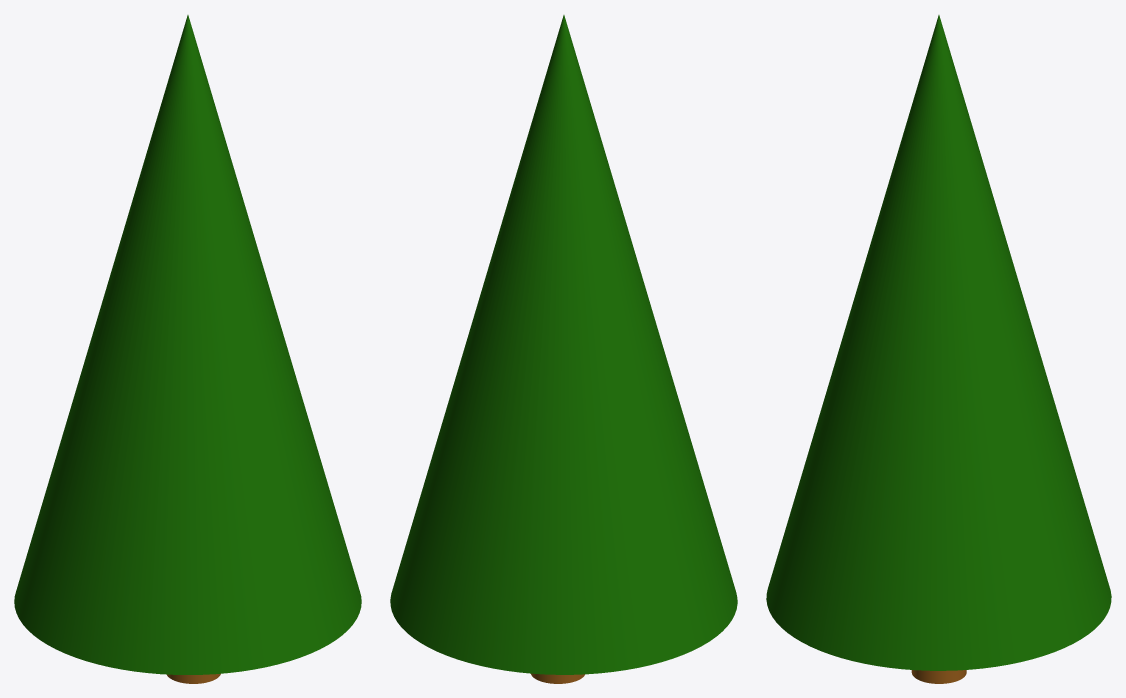
File: treeModel.fbx
The picture shows the model from 3 angles, left to right: view 1: azimuth 30°, elevation 25°; view 2: azimuth 150°, elevation 25°; view 3: azimuth 270°, elevation 25°; orthographic projection.
Parts seen in each view (by area): view 1: node_id35; view 2: node_id35; view 3: node_id35 (×2).
Boxes of the visible parts, x1=… form: node_id35: x1=14, y1=15, x2=361, y2=674; node_id35: x1=390, y1=15, x2=737, y2=674; node_id35 (×2): x1=766, y1=15, x2=1111, y2=683.
Bounding box in the file's own units: 0.132 × 0.2766 × 0.132.
